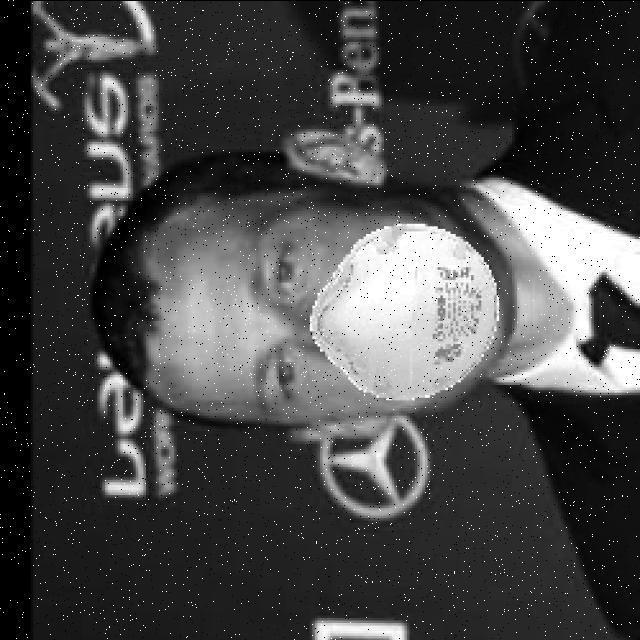mask: (304, 229, 508, 390)
no_gloves: (96, 180, 205, 406)
